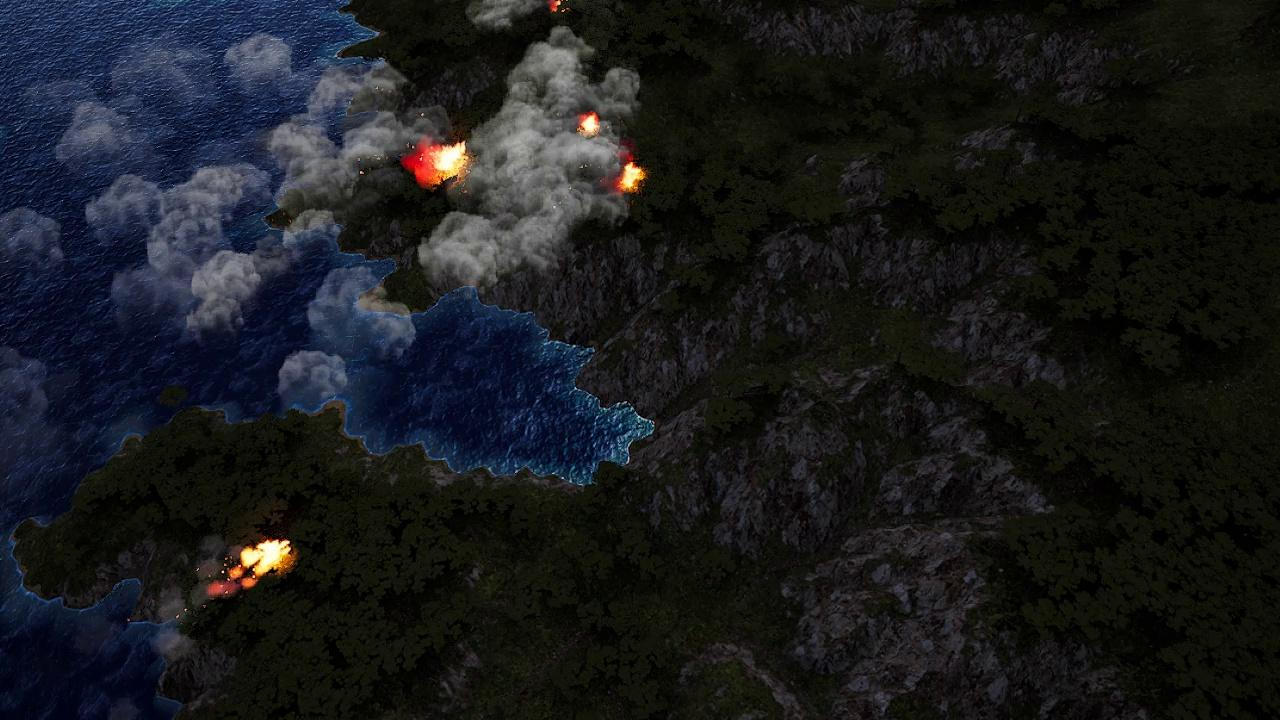fire: (415, 140, 468, 184), (240, 540, 293, 581), (618, 162, 646, 193), (579, 113, 599, 135), (549, 0, 567, 13)
smoke: (0, 28, 639, 431), (147, 534, 243, 666), (459, 0, 564, 33)
